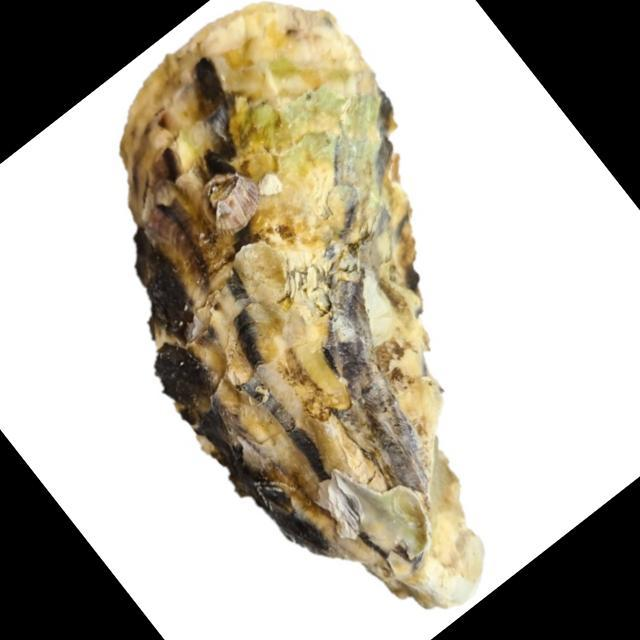Oyster- Indeterminate: (118, 3, 486, 612)
